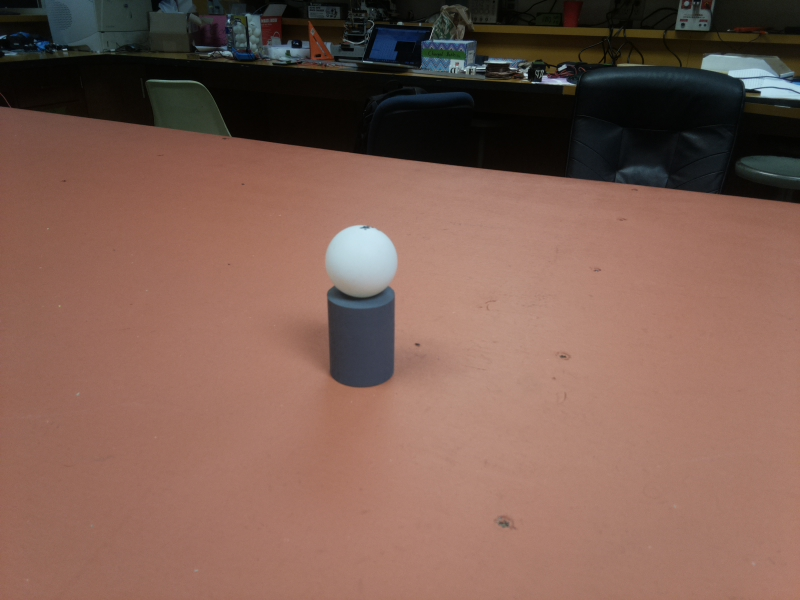obstacle: (323, 225, 396, 388)
